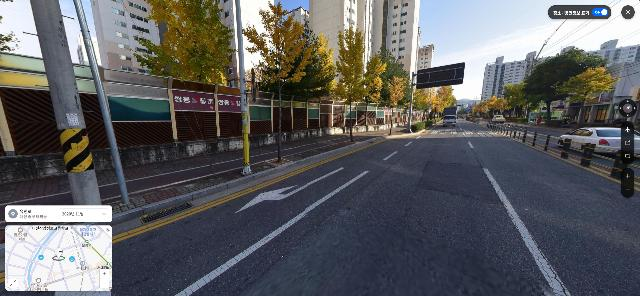ginkgo: (241, 0, 316, 163), (132, 0, 236, 86), (255, 26, 337, 101), (333, 19, 372, 142), (567, 65, 618, 127), (308, 33, 339, 101), (363, 54, 390, 108), (385, 75, 409, 135), (436, 85, 456, 122), (413, 88, 430, 122), (487, 96, 506, 120)
other: (526, 50, 605, 124), (374, 46, 412, 108), (502, 81, 524, 122)
